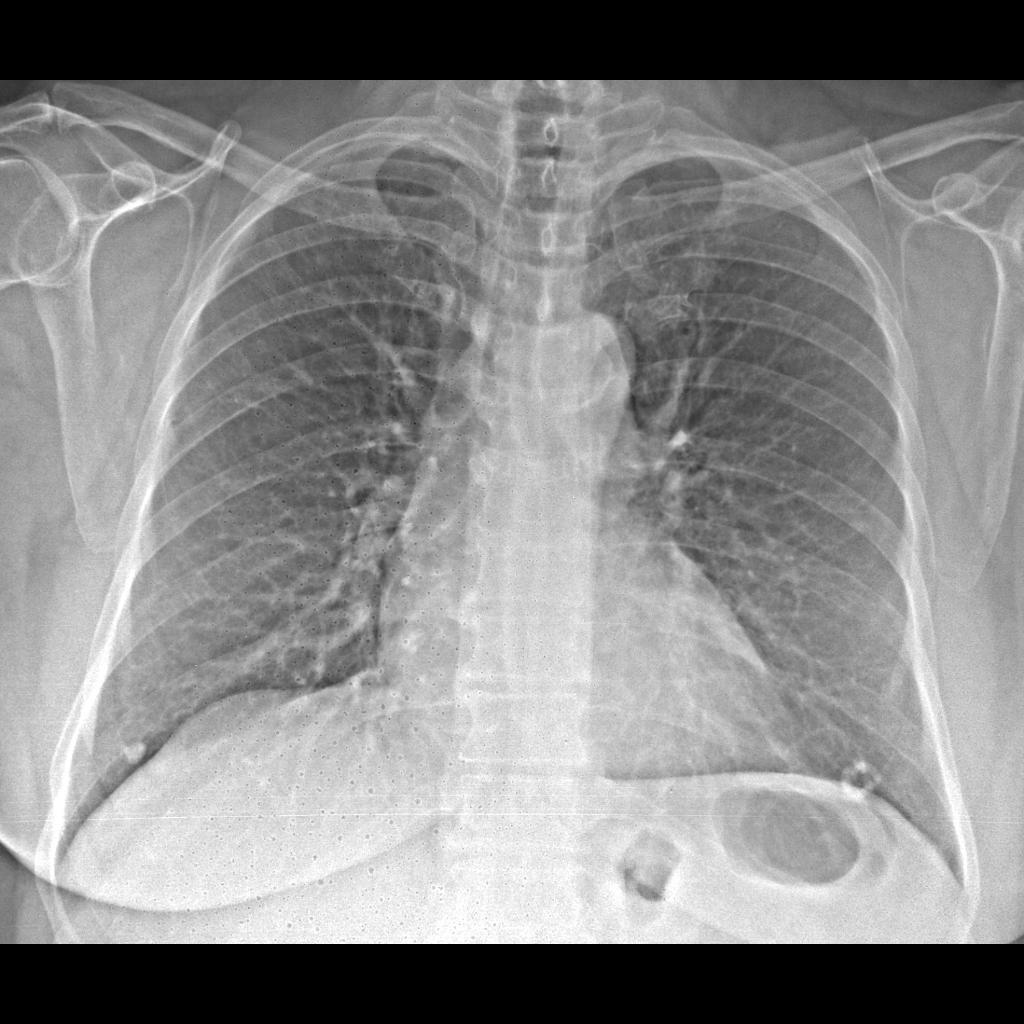Nodule: (117, 729, 151, 773)
